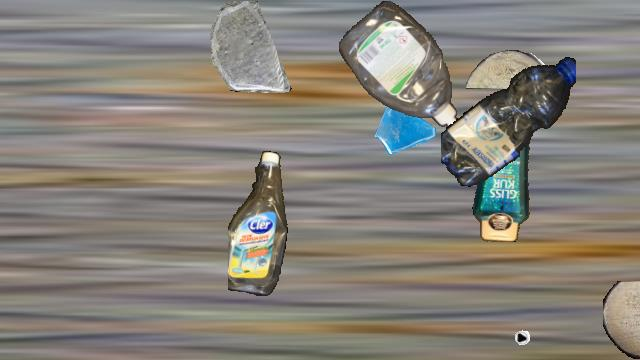glass: (205, 1, 297, 93), (373, 94, 439, 160)
metal: (477, 290, 537, 350)
plastic: (441, 50, 575, 190), (339, 1, 459, 131), (468, 99, 540, 241), (228, 151, 288, 295), (639, 63, 640, 275)
wood: (466, 50, 550, 88), (603, 281, 640, 359)
